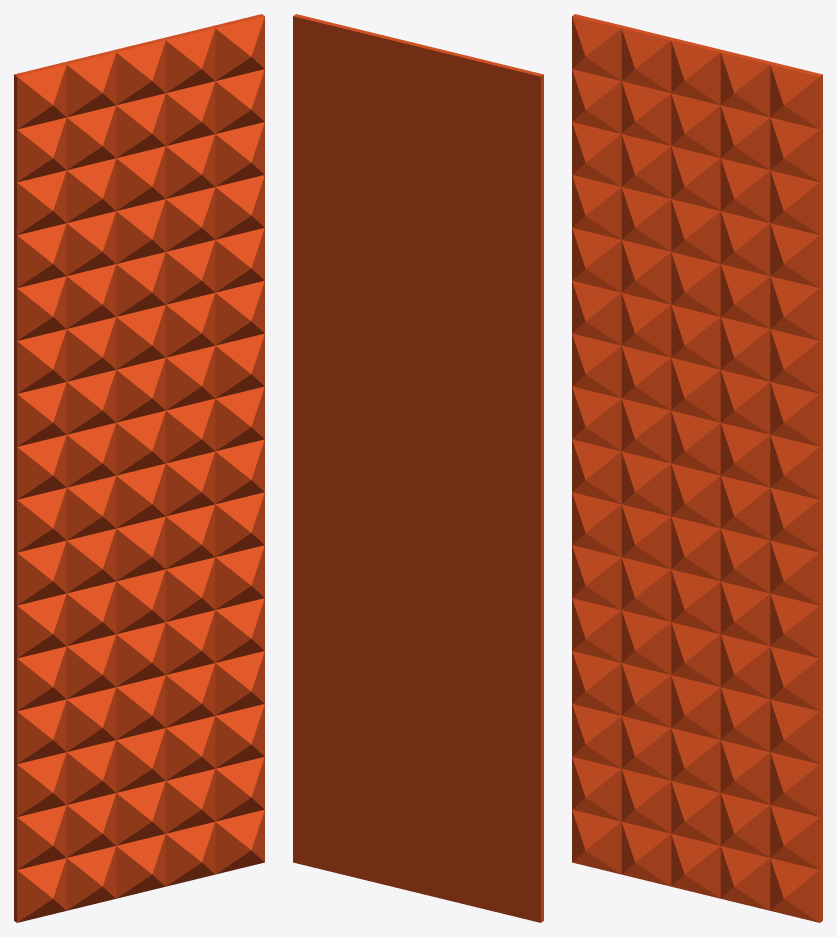
Rendered from panel.glb.
The picture shows the model from 3 angles, left to right: view 1: azimuth 30°, elevation 25°; view 2: azimuth 150°, elevation 25°; view 3: azimuth 330°, elevation 25°; orthographic projection.
Size of the model in its own units: 0.57 by 1.86 by 0.057.
